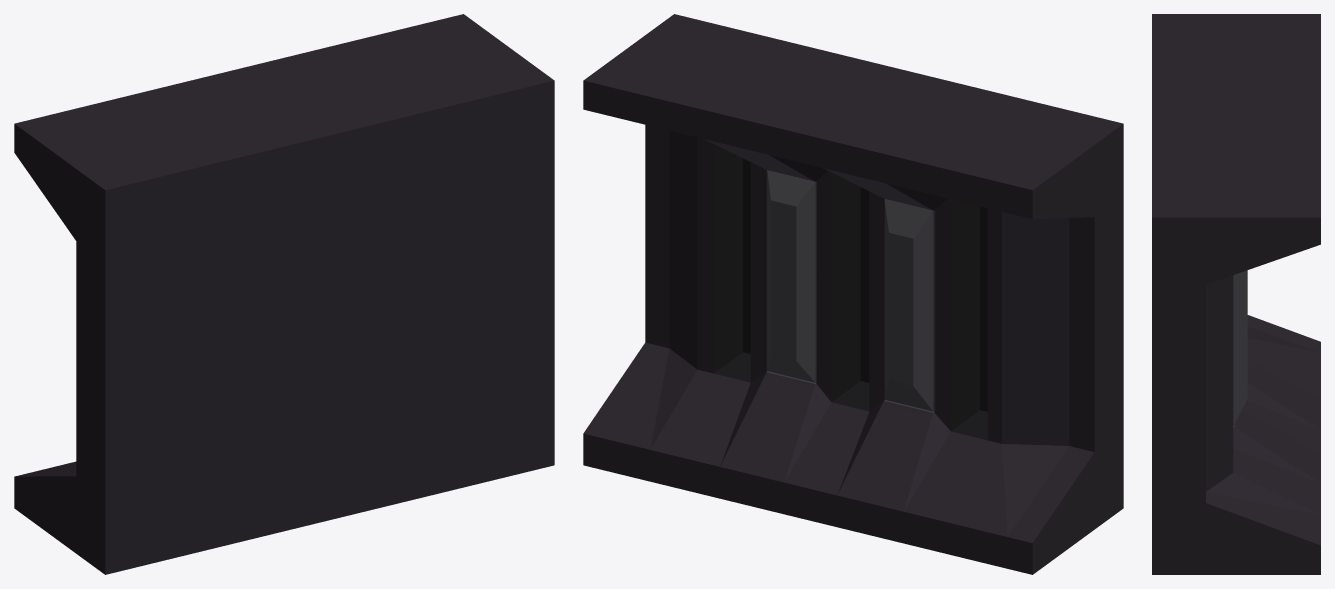
The model's file is wall panel1.fbx.
3 views of the same model, side by side, from view 1: azimuth 30°, elevation 25°; view 2: azimuth 150°, elevation 25°; view 3: azimuth 270°, elevation 25° (orthographic). The views are drawn at different scales.
Visible parts, largest first — view 1: pCube1; view 2: pCube1; view 3: pCube1.
Part boxes in pixels (x1=…): pCube1: x1=14, y1=14, x2=554, y2=574; pCube1: x1=583, y1=14, x2=1123, y2=574; pCube1: x1=1152, y1=14, x2=1320, y2=574.
Bounding box in the file's own units: 22.3 × 18.25 × 7.82.
1 material, 1 textured.
